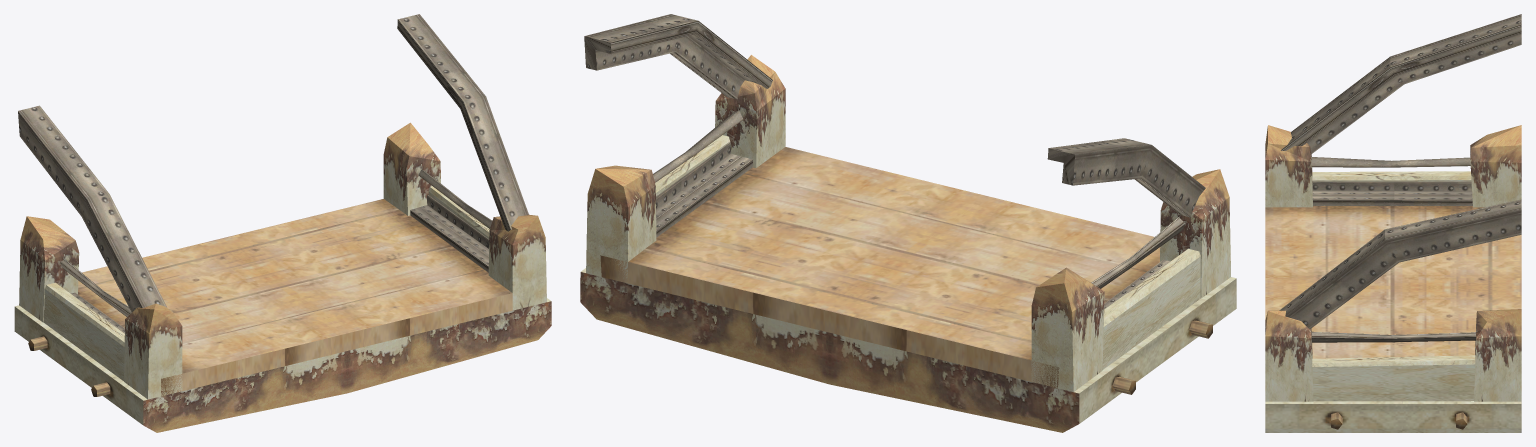
The model's file is C2SMBRIDGE20m_A2_H.obj.
3 views of the same model, side by side, from view 1: azimuth 30°, elevation 25°; view 2: azimuth 150°, elevation 25°; view 3: azimuth 270°, elevation 25° (orthographic). The views are drawn at different scales.
Parts seen in each view (by area): view 1: Node 0; view 2: Node 0; view 3: Node 0.
Boxes of the visible parts, x1,y1,x2,y2 form: Node 0: (14, 14, 551, 432); Node 0: (580, 14, 1236, 432); Node 0: (1265, 14, 1521, 432).
Size of the model in its own units: 29.1 by 15.15 by 14.92.
Materials: 4 (4 with a texture image).
